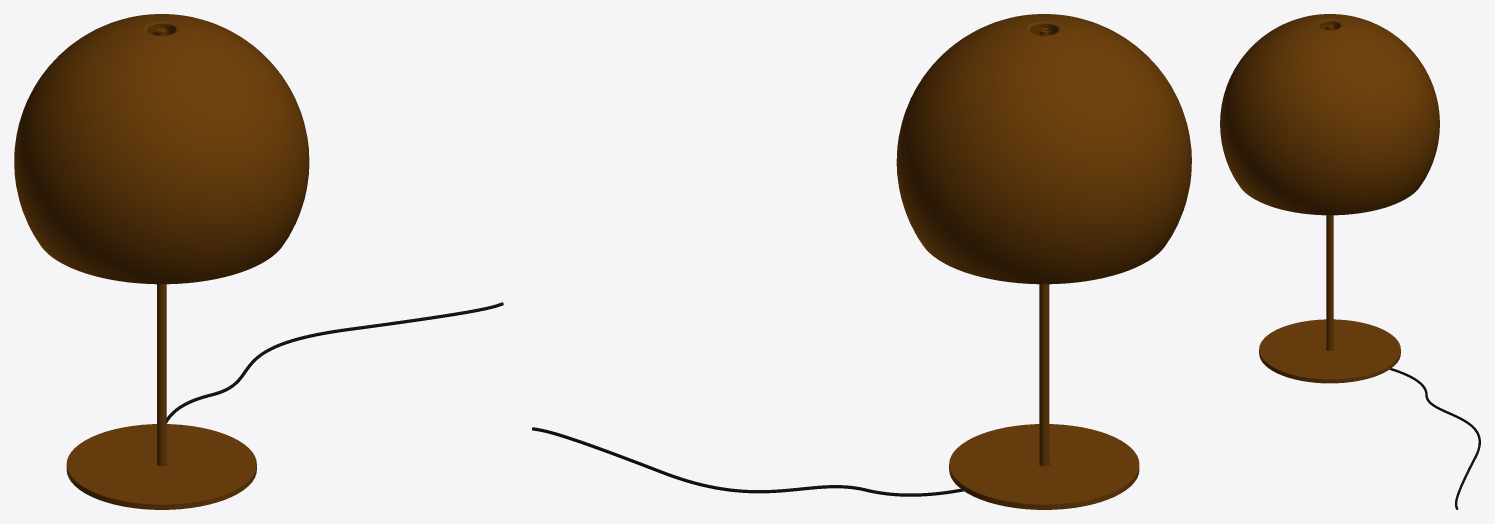
Rendered from Opinion_Ciatti_Mirror_Table_45_mat(3).fbx.
3 views of the same model, side by side, from view 1: azimuth 30°, elevation 25°; view 2: azimuth 150°, elevation 25°; view 3: azimuth 270°, elevation 25° (orthographic). The views are drawn at different scales.
Parts seen in each view (by area): view 1: Opinion_Ciatti_Mirror_Table_45_mat3; view 2: Opinion_Ciatti_Mirror_Table_45_mat3; view 3: Opinion_Ciatti_Mirror_Table_45_mat3.
Boxes of the visible parts, <box> form: Opinion_Ciatti_Mirror_Table_45_mat3: <box>14,14,503,509</box>; Opinion_Ciatti_Mirror_Table_45_mat3: <box>532,14,1191,509</box>; Opinion_Ciatti_Mirror_Table_45_mat3: <box>1220,14,1480,509</box>.
Bounding box in the file's own units: 97.55 × 53.38 × 74.47.
